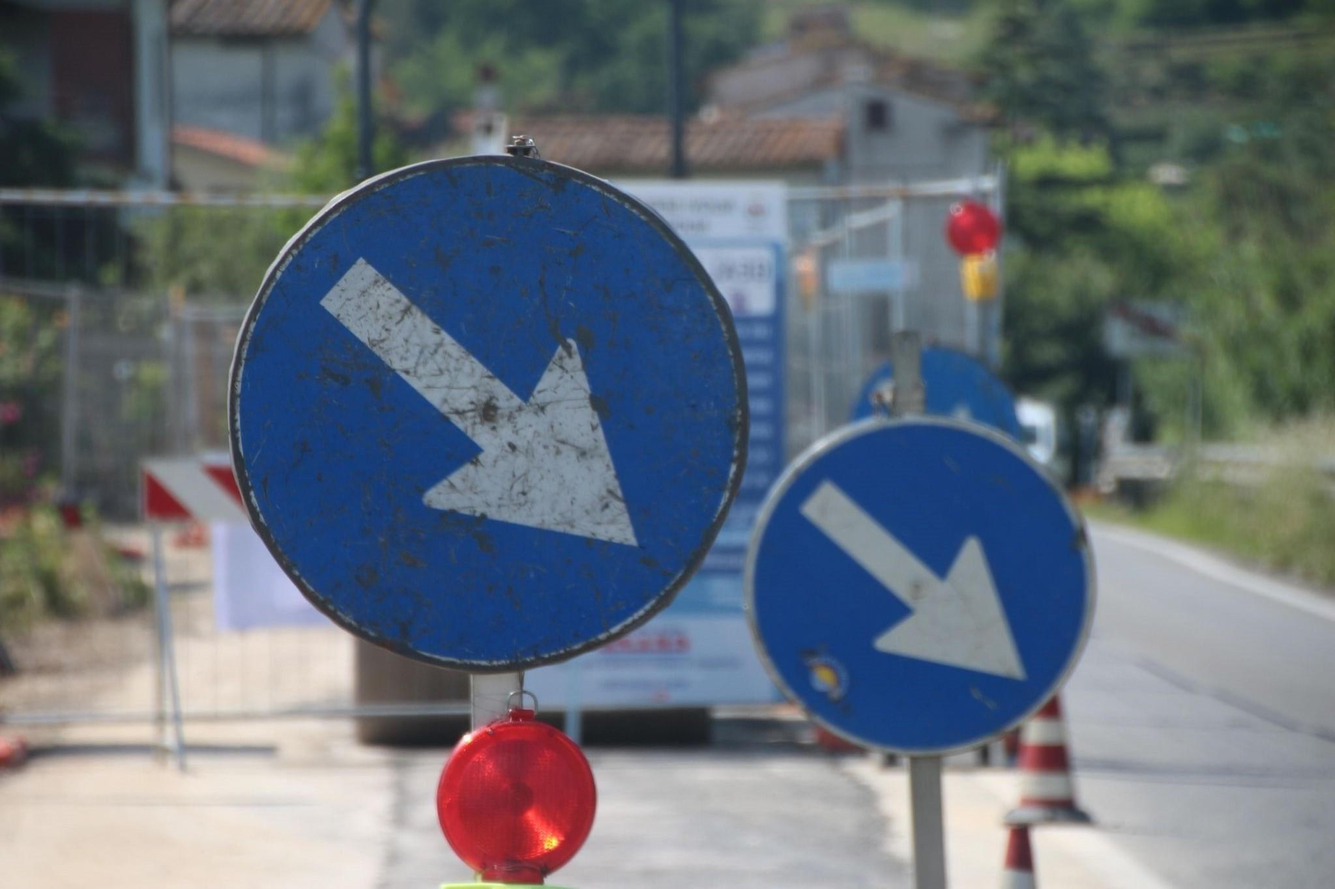obstructed_road_sign: (232, 151, 752, 675)
road_sign: (746, 414, 1096, 762)
